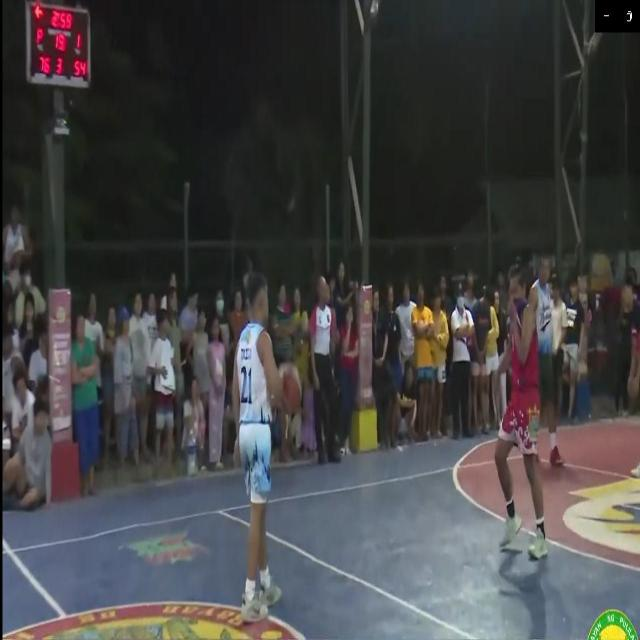ball: (275, 348, 301, 427)
person: (218, 256, 292, 640), (473, 257, 553, 572), (533, 246, 570, 476)
